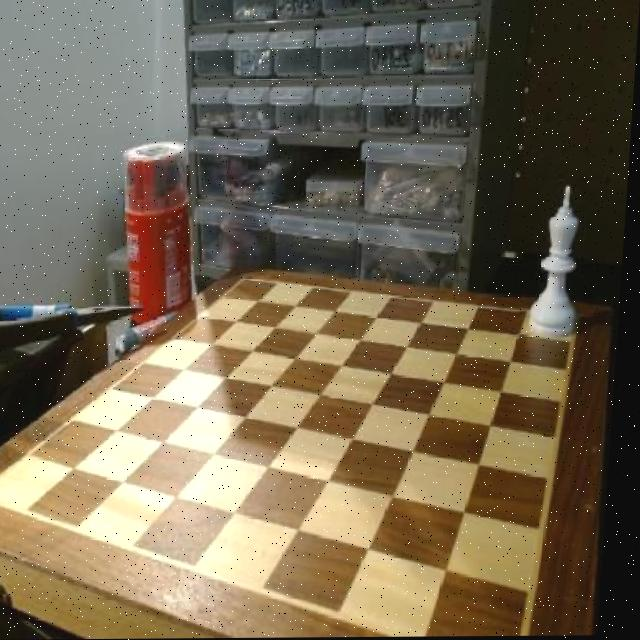white-bishop: (523, 183, 592, 339)
